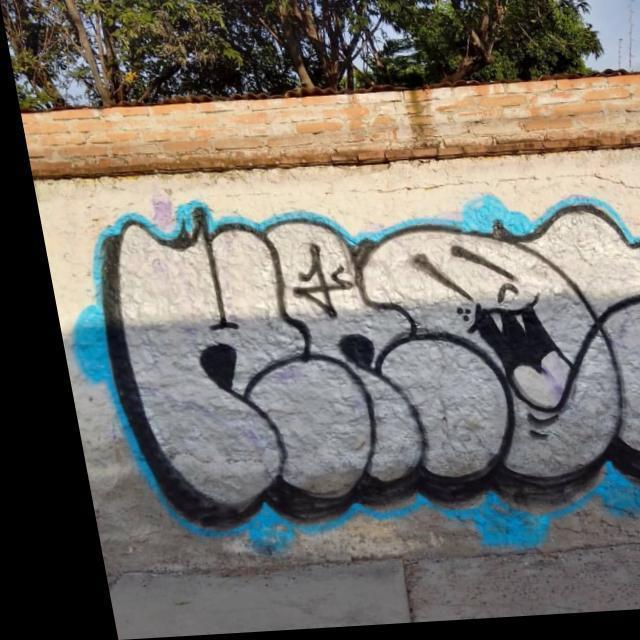nonspitting: (104, 204, 640, 534)
